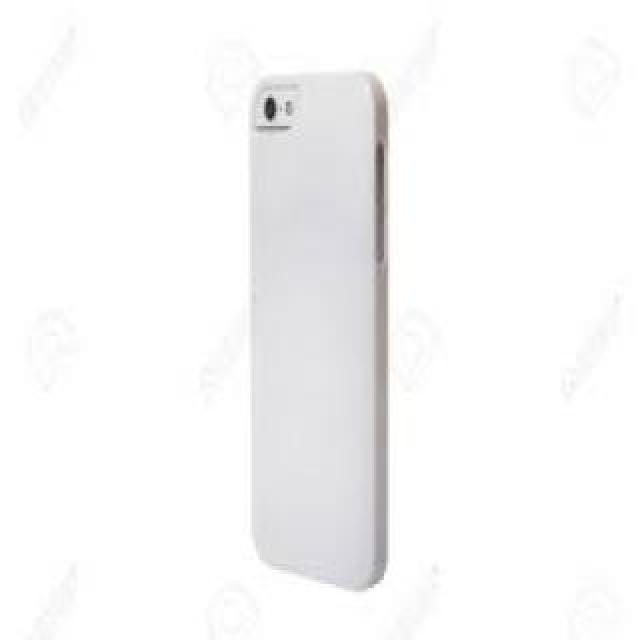smart phone: (223, 46, 430, 602)
